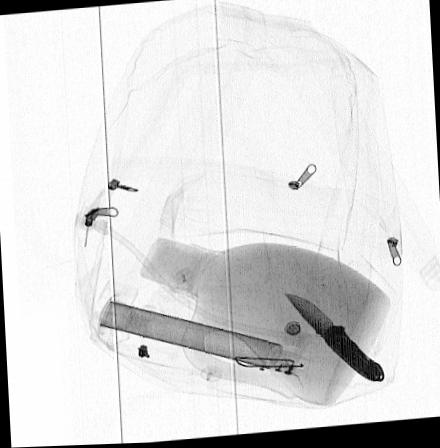Knife: (283, 295, 383, 385)
